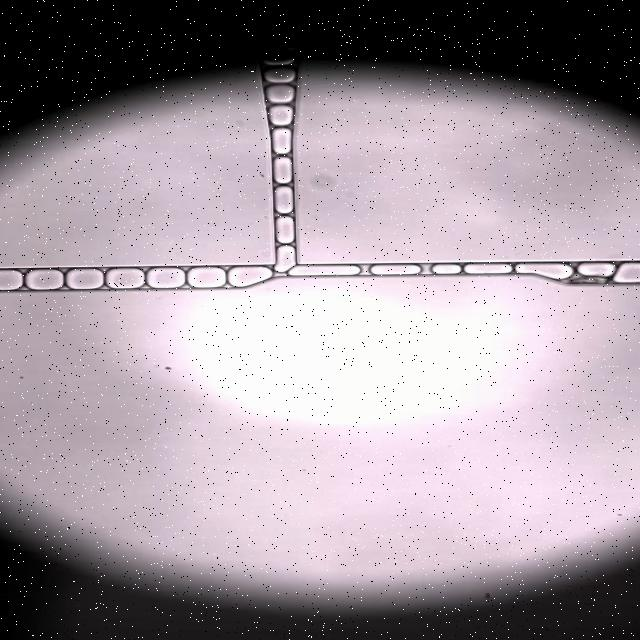L: (370, 264, 420, 275), (464, 263, 512, 274), (265, 85, 294, 103), (275, 246, 295, 272), (275, 186, 293, 214), (276, 216, 294, 244), (578, 263, 614, 277), (273, 128, 291, 155), (269, 106, 293, 126), (264, 68, 295, 83), (275, 157, 292, 184), (263, 58, 294, 66)
S: (516, 263, 573, 280), (228, 267, 271, 287), (106, 268, 145, 289), (65, 268, 102, 289), (25, 269, 63, 289), (188, 268, 225, 288), (147, 268, 184, 288), (289, 266, 359, 275), (613, 263, 640, 282), (0, 270, 23, 290), (431, 264, 460, 274)
